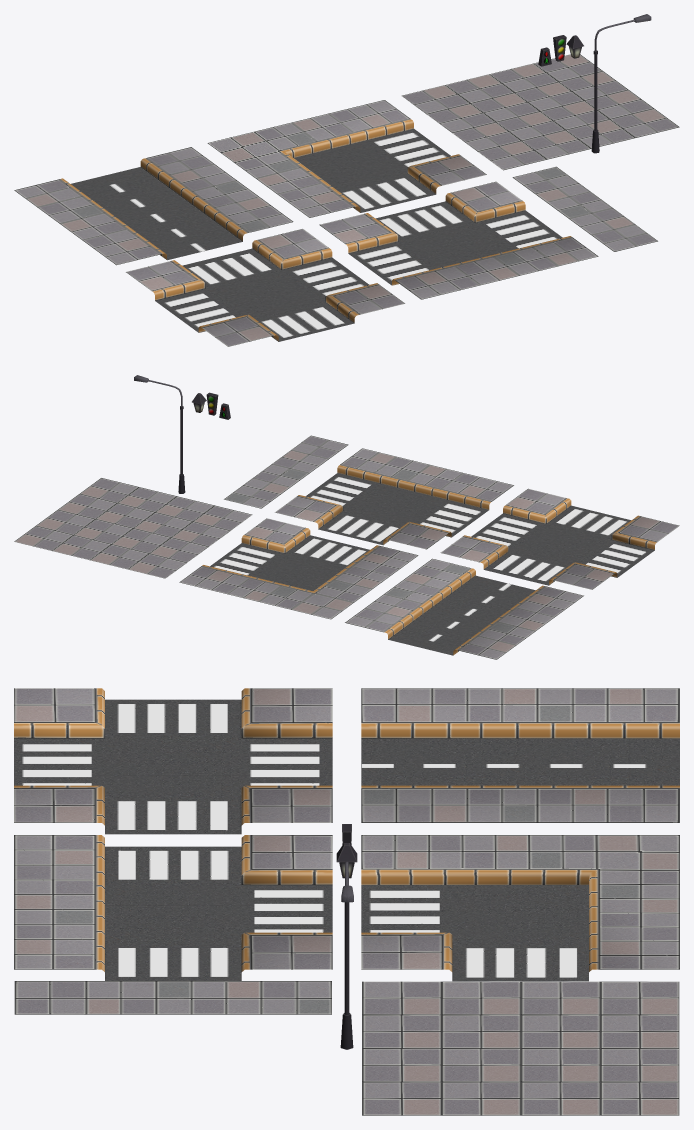
File: road_all03.FBX
3 renders of one model, top to bottom at view 1: azimuth 30°, elevation 25°; view 2: azimuth 150°, elevation 25°; view 3: azimuth 270°, elevation 25°, orthographic. The views are drawn at different scales.
Visible parts, largest first — view 1: road_r, road_+, road_I, road_T, sidewalk, sidewalk2; view 2: road_T, road_+, road_I, sidewalk, road_r, sidewalk2; view 3: road_r, road_+, road_T, road_I, sidewalk, sidewalk2, pillar.
Boxes of the visible parts, left/top/right/bottom form: road_r: left=207, top=100, right=486, bottom=217; road_+: left=126, top=229, right=404, bottom=346; road_I: left=14, top=147, right=293, bottom=265; road_T: left=319, top=181, right=598, bottom=299; sidewalk: left=401, top=54, right=679, bottom=170; sidewalk2: left=512, top=166, right=657, bottom=251; road_T: left=275, top=448, right=513, bottom=549; road_+: left=440, top=488, right=679, bottom=589; road_I: left=345, top=558, right=583, bottom=659; sidewalk: left=14, top=478, right=252, bottom=578; road_r: left=179, top=518, right=418, bottom=619; sidewalk2: left=224, top=435, right=348, bottom=508; road_r: left=361, top=835, right=679, bottom=981; road_+: left=14, top=688, right=332, bottom=834; road_T: left=14, top=835, right=332, bottom=980; road_I: left=361, top=688, right=679, bottom=822; sidewalk: left=362, top=981, right=679, bottom=1115; sidewalk2: left=14, top=981, right=331, bottom=1014; pillar: left=340, top=902, right=353, bottom=1049.
Size of the model in its own units: 204 by 45.78 by 134.
